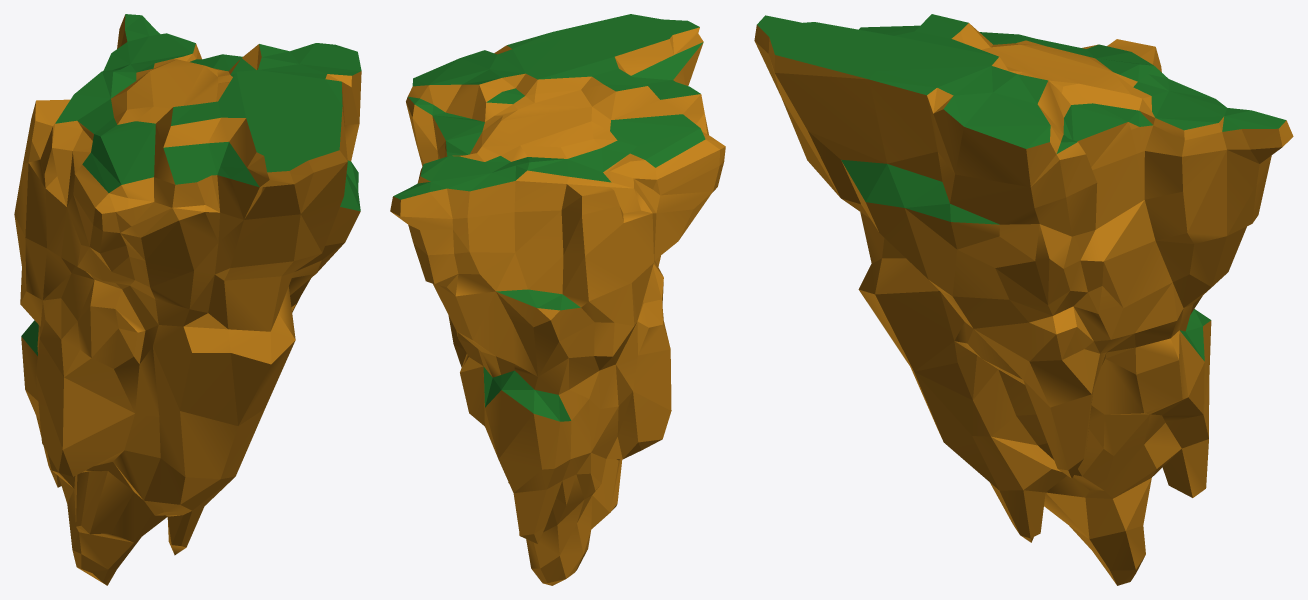
File: building_06.FBX
3 views of the same model, side by side, from view 1: azimuth 30°, elevation 25°; view 2: azimuth 150°, elevation 25°; view 3: azimuth 270°, elevation 25° (orthographic). The views are drawn at different scales.
Parts seen in each view (by area): view 1: building06_2, building06_1; view 2: building06_2, building06_1; view 3: building06_2, building06_1.
Part boxes in pixels (x1,y1,x2,y2): building06_2: (14,15,361,585); building06_1: (21,14,361,355); building06_2: (390,27,725,585); building06_1: (393,14,705,421); building06_2: (754,23,1293,585); building06_1: (757,14,1286,361).
Bounding box in the file's own units: 587 × 964 × 831.
